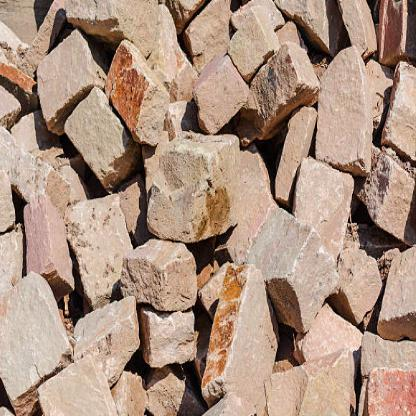Sedimentary_Limestone: (130, 125, 244, 245), (234, 208, 360, 311), (233, 24, 316, 153), (200, 264, 280, 396), (57, 88, 136, 211), (1, 275, 70, 411), (30, 17, 100, 137), (108, 29, 172, 155), (317, 44, 371, 187), (65, 193, 126, 317), (9, 203, 75, 316), (116, 233, 210, 312), (32, 348, 124, 415), (192, 47, 248, 150), (1, 126, 50, 228), (1, 1, 41, 120)
